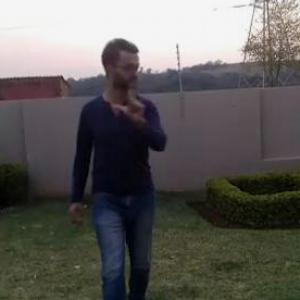land_hand: (112, 74, 150, 125)
